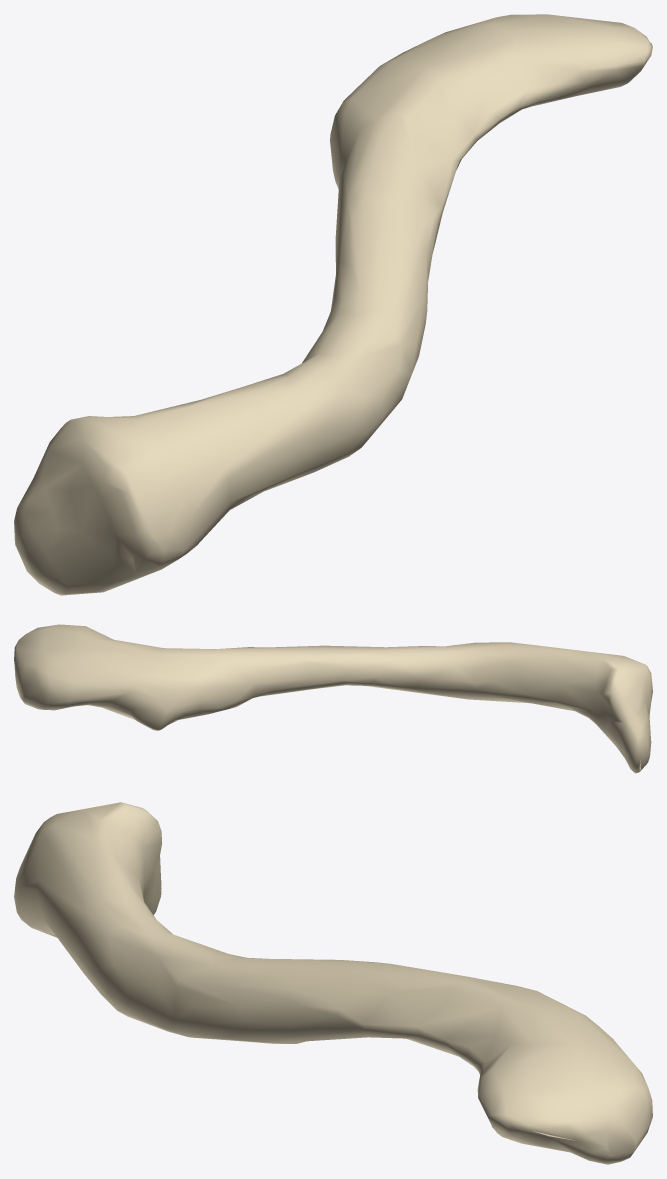
File: esqueleto-clavicle-l.glb
3 views of the same model, one above another, from view 1: azimuth 30°, elevation 25°; view 2: azimuth 150°, elevation 25°; view 3: azimuth 270°, elevation 25° (orthographic). The views are drawn at different scales.
Parts seen in each view (by area): view 1: Clavicle.l; view 2: Clavicle.l; view 3: Clavicle.l.
Part boxes in pixels (x1,y1,x2,y2): Clavicle.l: [14, 14, 652, 595]; Clavicle.l: [14, 624, 652, 773]; Clavicle.l: [14, 802, 652, 1164].
Size of the model in its own units: 0.1431 by 0.0361 by 0.1028.
